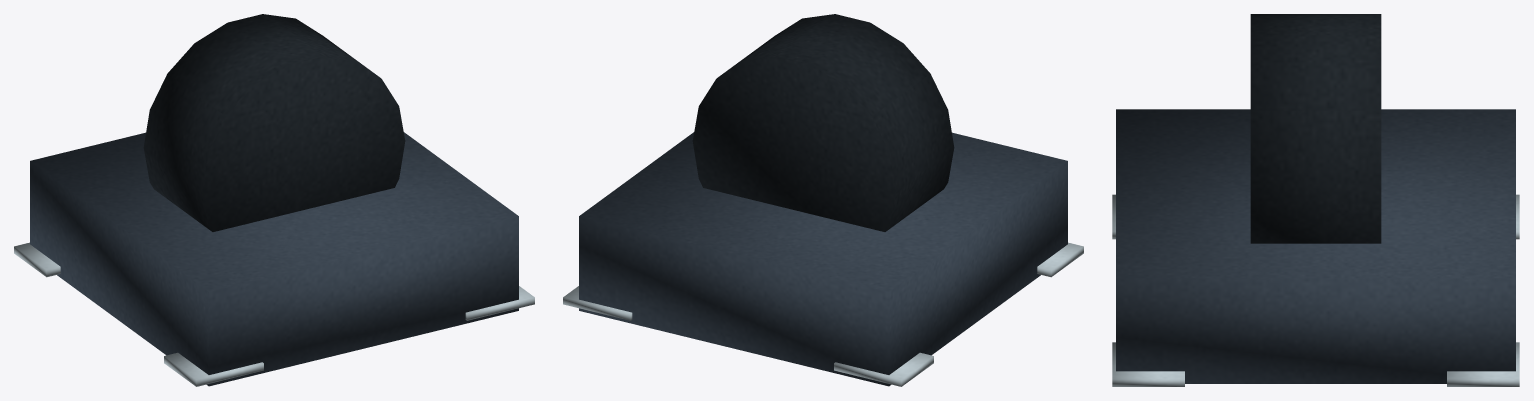
The picture shows the model from 3 angles, left to right: view 1: azimuth 30°, elevation 25°; view 2: azimuth 150°, elevation 25°; view 3: azimuth 270°, elevation 25°; orthographic projection. The views are drawn at different scales.
Parts seen in each view (by area): view 1: 0005_Dark_Metal, 0004_Rubber_Black, 0003_Lead_Tin, 0002_Lead_Tin, 0001_Lead_Tin; view 2: 0005_Dark_Metal, 0004_Rubber_Black, 0002_Lead_Tin, 0003_Lead_Tin, 0000_Lead_Tin; view 3: 0005_Dark_Metal, 0004_Rubber_Black, 0000_Lead_Tin, 0001_Lead_Tin.
Boxes of the visible parts, x1,y1,x2,y2 form: 0005_Dark_Metal: (30,132,518,386); 0004_Rubber_Black: (143,14,405,231); 0003_Lead_Tin: (164,352,263,386); 0002_Lead_Tin: (14,242,60,277); 0001_Lead_Tin: (465,286,534,320); 0005_Dark_Metal: (579,132,1067,386); 0004_Rubber_Black: (692,14,954,231); 0002_Lead_Tin: (834,352,933,386); 0003_Lead_Tin: (1037,242,1083,277); 0000_Lead_Tin: (563,286,632,320); 0005_Dark_Metal: (1116,109,1515,383); 0004_Rubber_Black: (1250,14,1381,243); 0000_Lead_Tin: (1447,342,1519,386); 0001_Lead_Tin: (1112,342,1184,386).
Bounding box in the file's own units: 0.006 × 0.00412 × 0.0056.
Materials: 3 (3 with a texture image).
